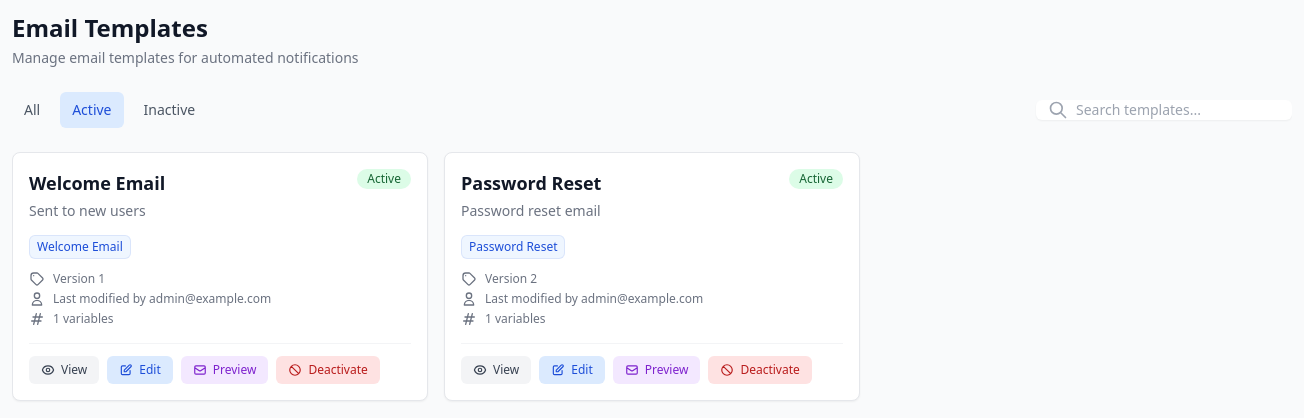
EmailTemplatesList › Filtering › should show all templates when All filter is selected
The width and height of the screenshot is (1304, 418).
Click the button "All": (32, 110) 12,92 -> 52,128
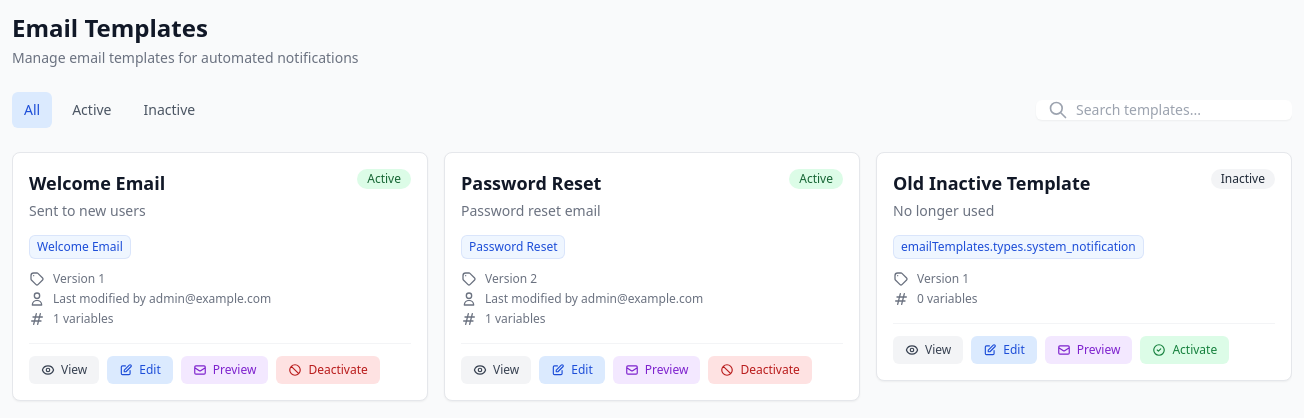
Expected: the heading "Welcome Email" is shown, 29,171 -> 165,195
Now the heading "Old Inactive Template" is shown, box 893,171 -> 1090,195
